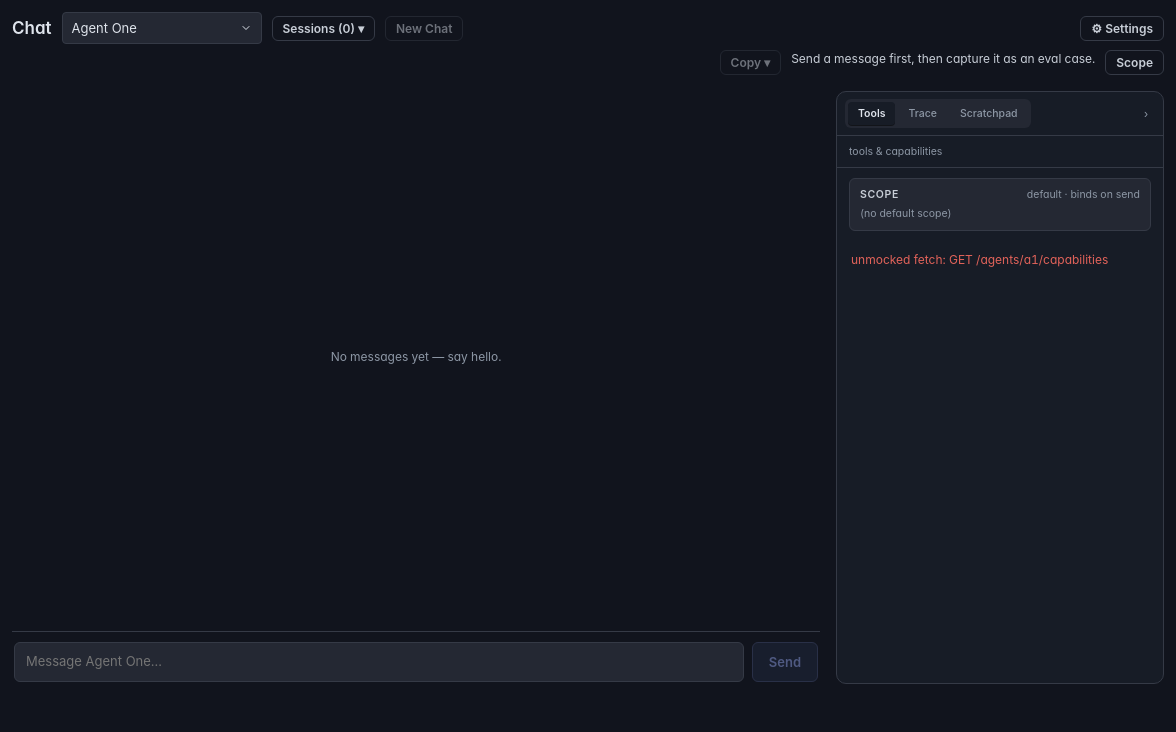
it: ChatPage scope chip (#268) › renders "(no scope)" for a hook-bearing agent whose effective context is null, as a non-interactive pill (no popover to suppress)
Type "hello" into the text box with placeholder "Message Agent One…" at (379, 662), box 14,642 -> 744,682
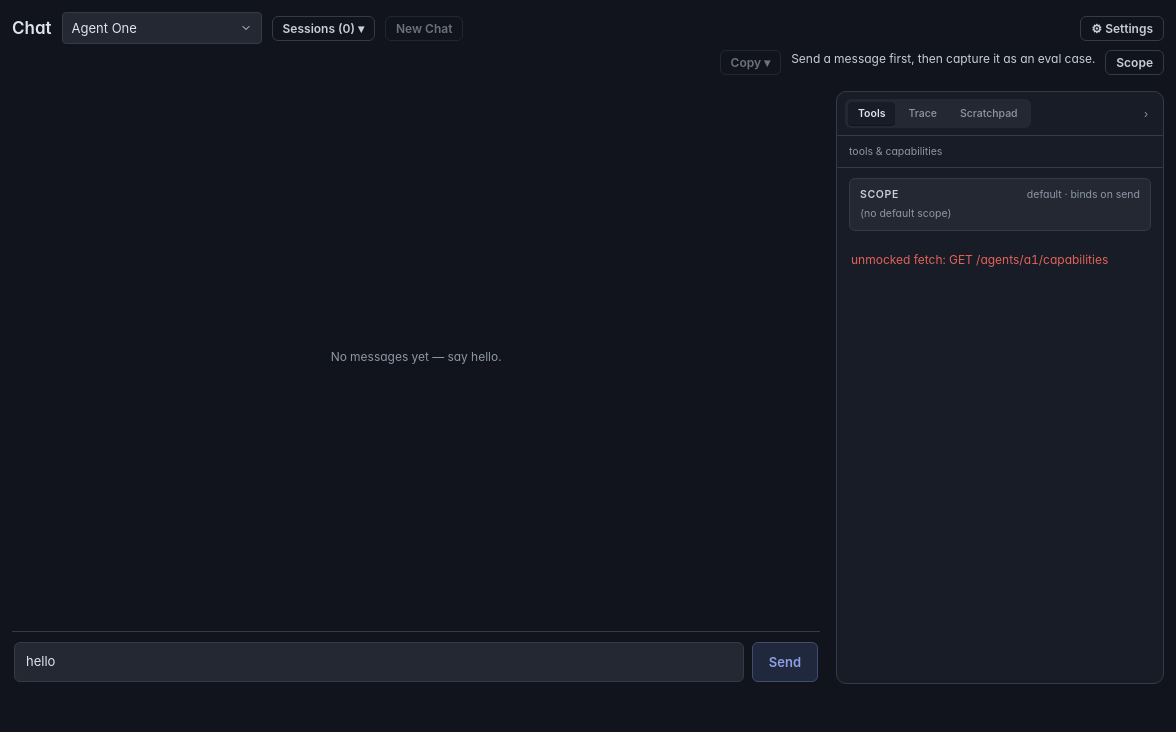
Click the button "Send" at (785, 662), box 752,642 -> 818,682
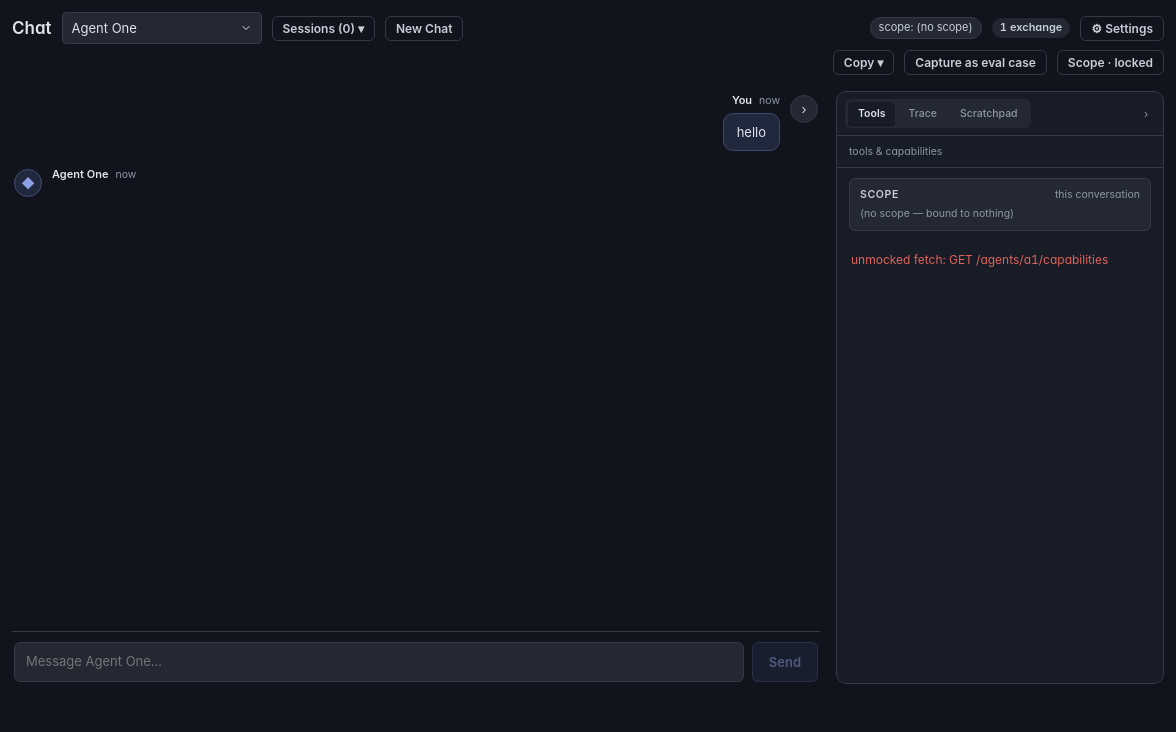
Result: the text "scope: (no scope)" is shown at 870,17 -> 982,39
